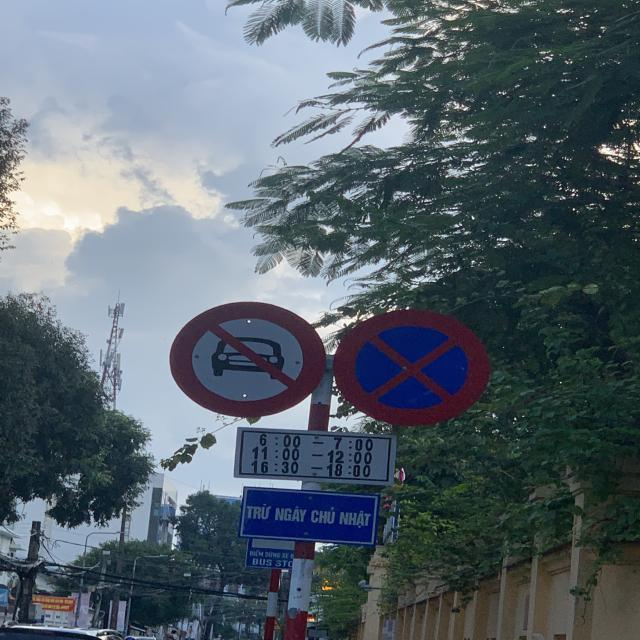Cam_Dung_Va_Dau_Xe: (333, 308, 491, 428)
Cam_O_To: (170, 303, 326, 417)
